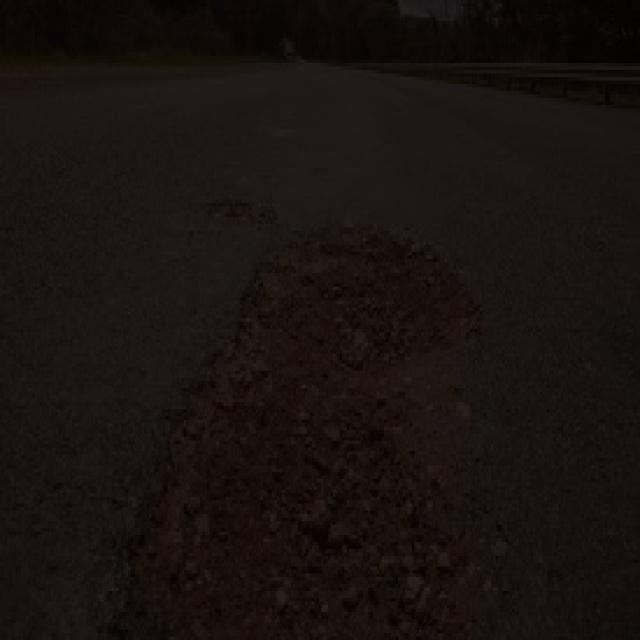Pothole: (102, 219, 512, 640), (204, 197, 270, 229)
